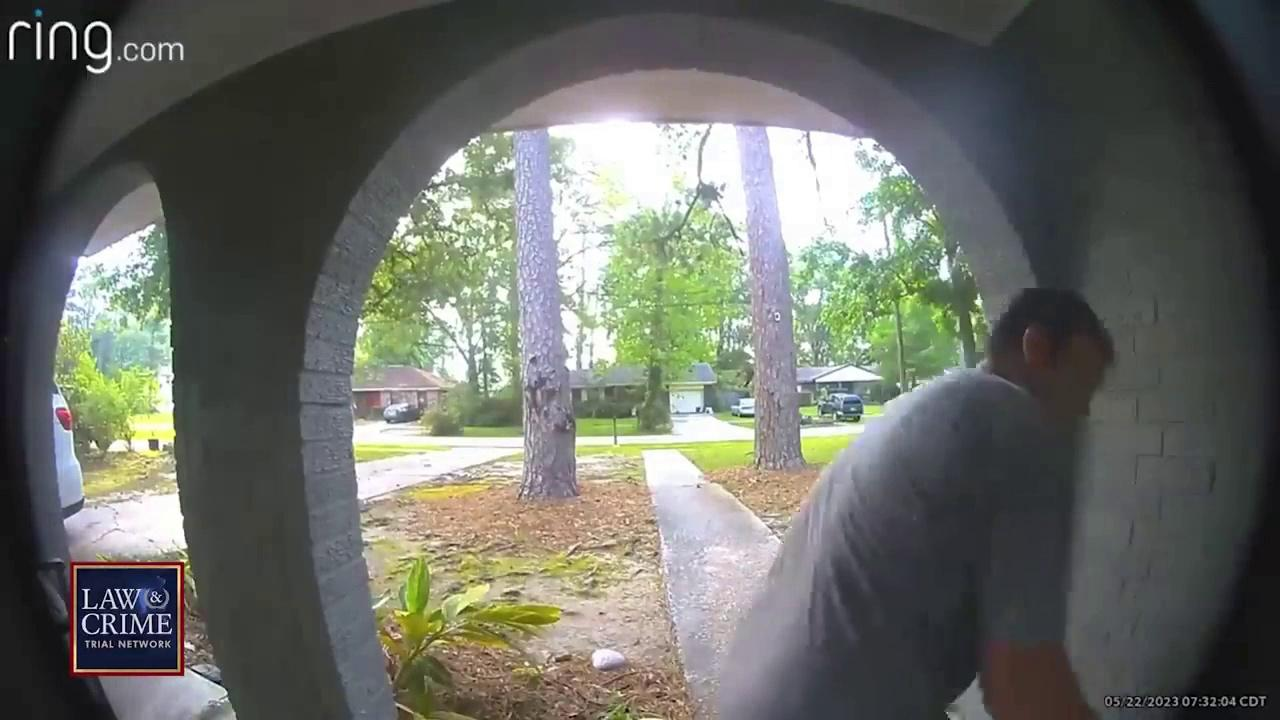suspicion: (700, 214, 1156, 720)
